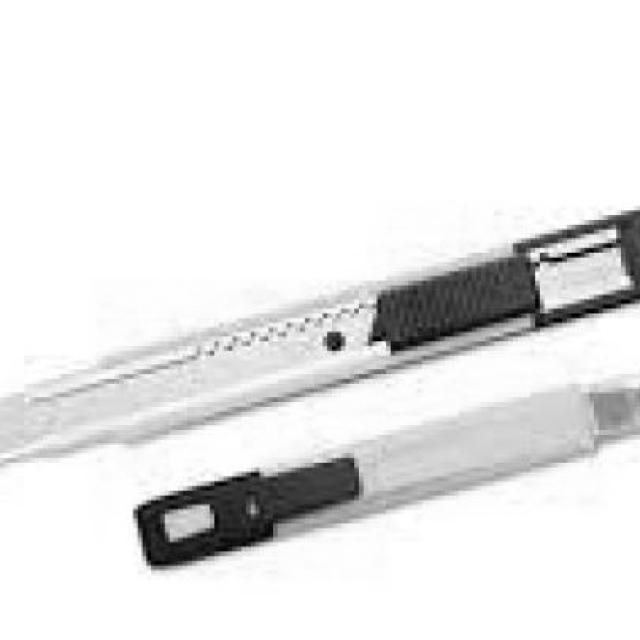estilete: (0, 211, 640, 465), (135, 376, 640, 564)
